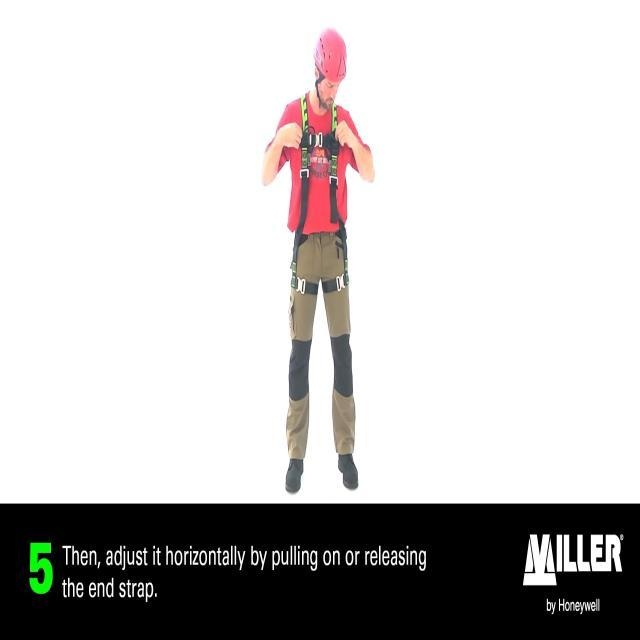Arnes_seguridad: (286, 93, 349, 296)
